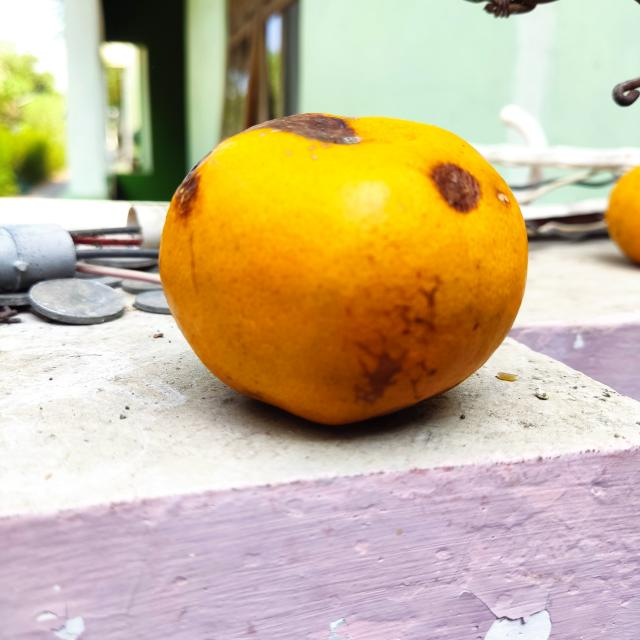orange: (157, 108, 531, 428)
